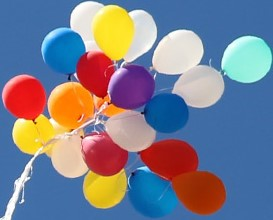Balloon: (221, 36, 272, 83), (172, 172, 227, 215), (140, 139, 200, 178), (92, 5, 133, 60), (49, 81, 94, 129), (153, 30, 204, 72), (173, 66, 225, 107), (82, 132, 129, 176), (129, 169, 173, 216), (41, 27, 83, 75), (3, 74, 45, 120), (107, 65, 151, 107), (108, 111, 155, 150), (143, 93, 189, 132), (84, 170, 126, 208), (13, 116, 52, 155), (77, 52, 110, 97), (50, 136, 84, 178)
